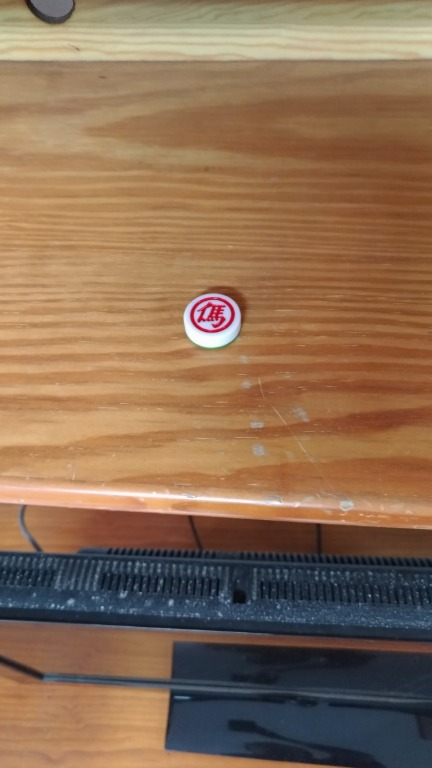r-knight: (173, 285, 268, 354)
